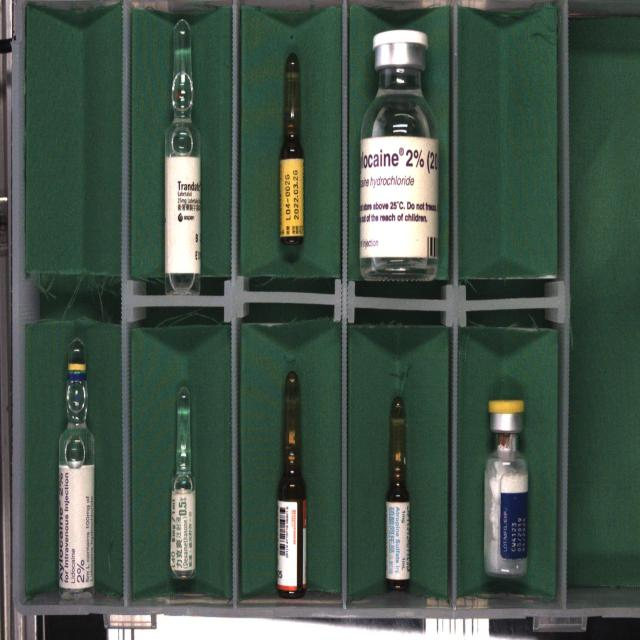Vials: (360, 30, 439, 281), (484, 399, 528, 577)
